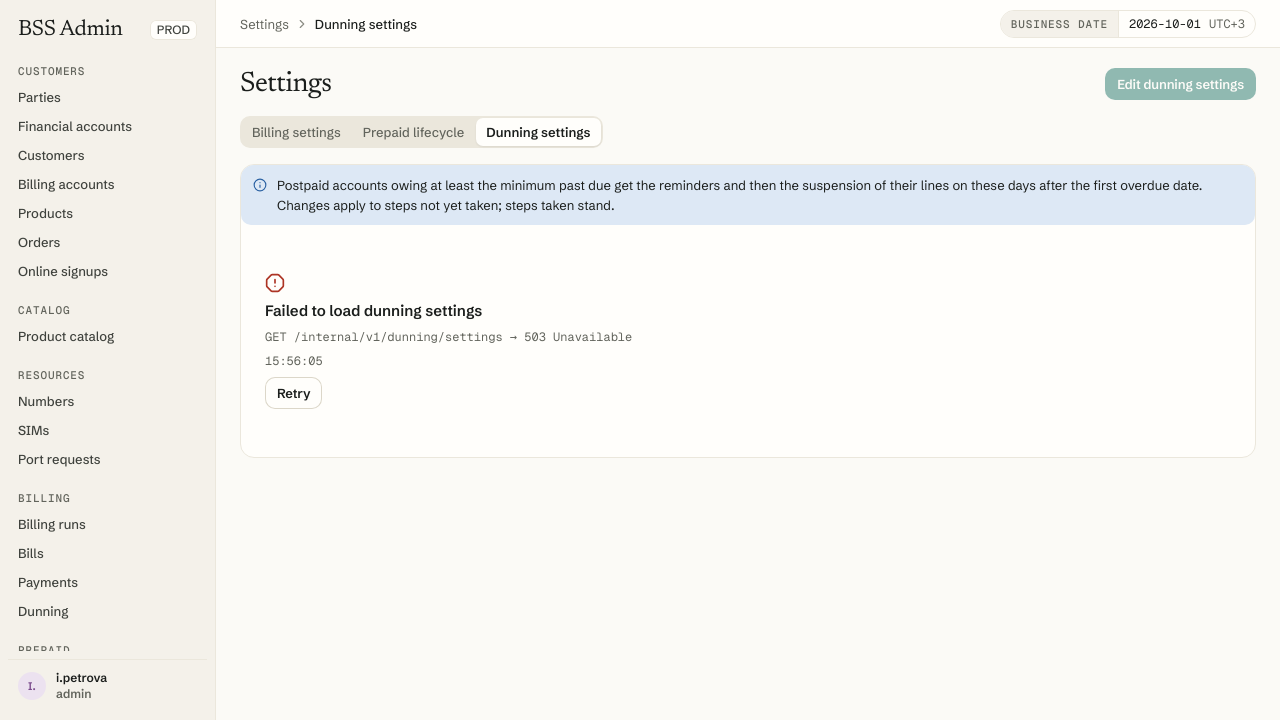
Scenario: dunning settings › retries a failed read
Check: the heading "Settings" is shown, box [240,68,332,100]
Click the button "Retry". click: (294, 393)
box: [265,377,322,409]
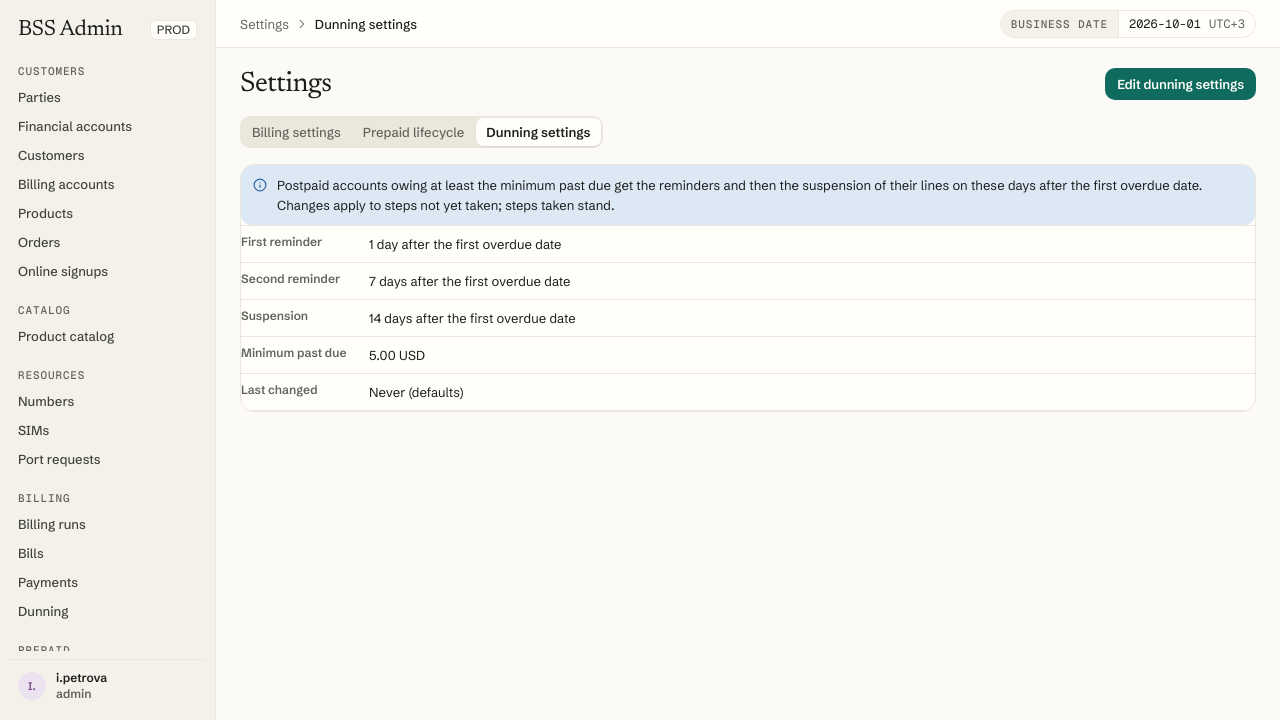
Check: the text "14 days after the first overdue date" is shown, box [369,300,1255,337]
